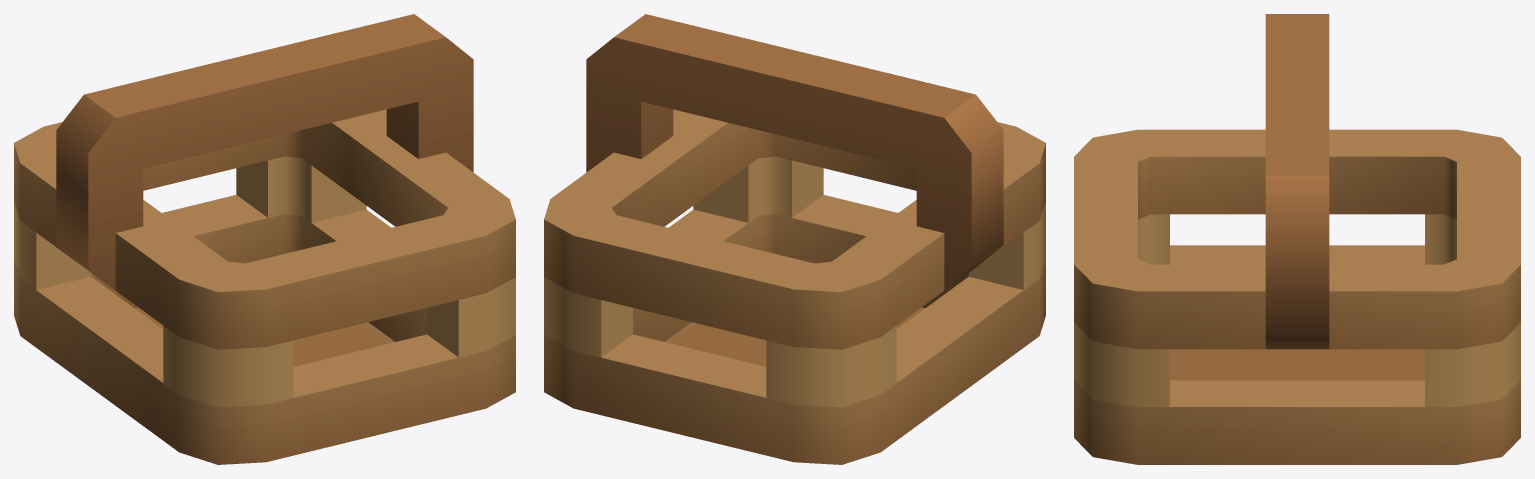
The model's file is big-basket-kenney.glb.
3 renders of one model, left to right at view 1: azimuth 30°, elevation 25°; view 2: azimuth 150°, elevation 25°; view 3: azimuth 270°, elevation 25°, orthographic.
Parts seen in each view (by area): view 1: shopping-basket; view 2: shopping-basket; view 3: shopping-basket.
Boxes of the visible parts, x1=… form: shopping-basket: x1=14, y1=14, x2=515, y2=464; shopping-basket: x1=544, y1=14, x2=1045, y2=464; shopping-basket: x1=1074, y1=14, x2=1520, y2=464.
Size of the model in its own units: 0.35 by 0.25 by 0.35.
1 material, 1 textured.
